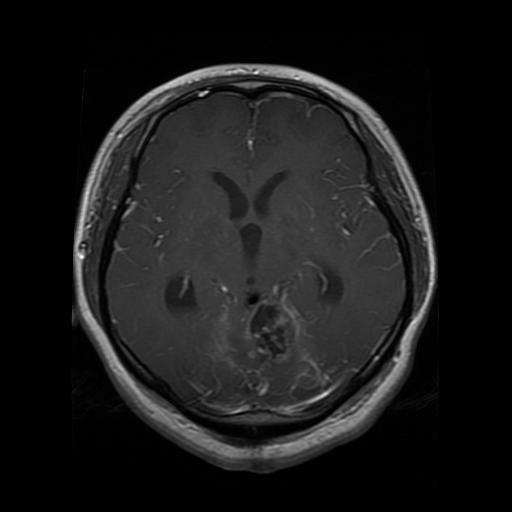Tumour-Glioma: (232, 295, 314, 373)
